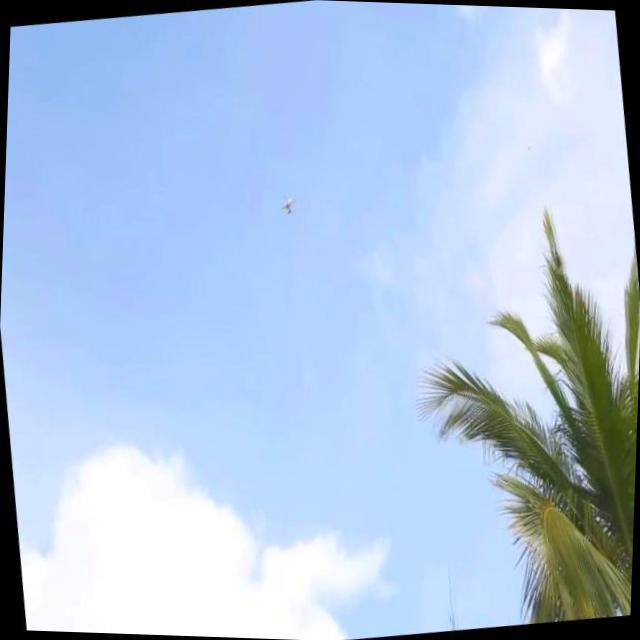drone: (276, 186, 298, 219)
